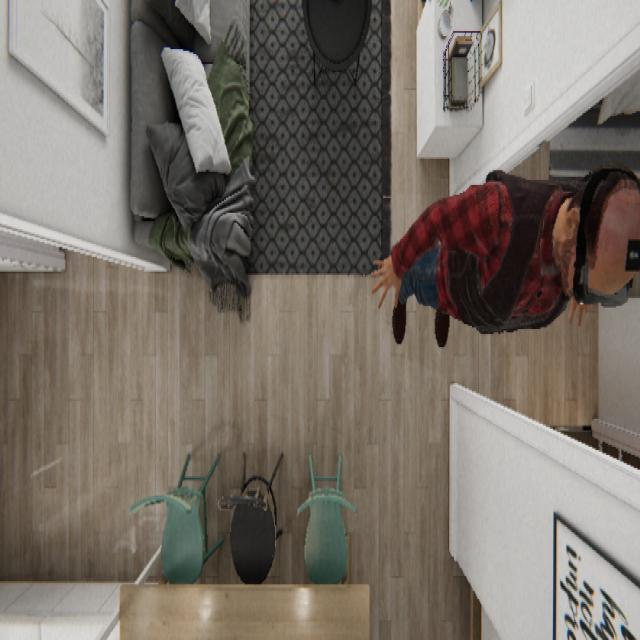Human: (370, 162, 638, 347)
